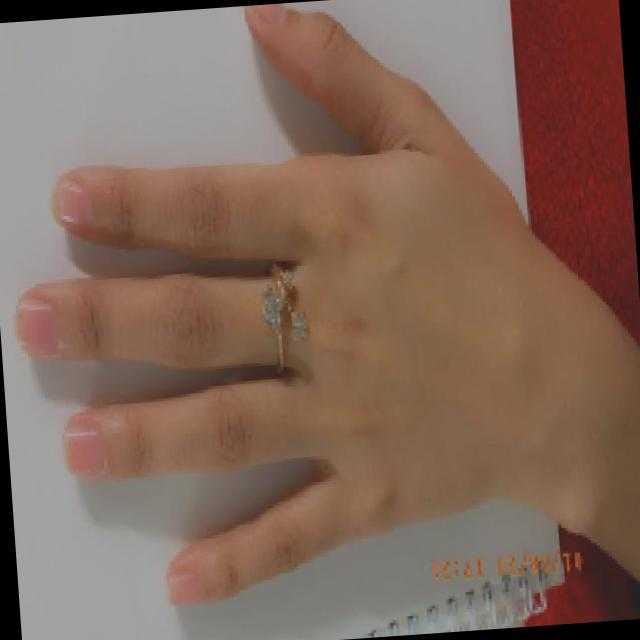Nail: (15, 297, 57, 357), (63, 417, 104, 476), (51, 179, 92, 223), (166, 570, 203, 602), (249, 3, 286, 22)
